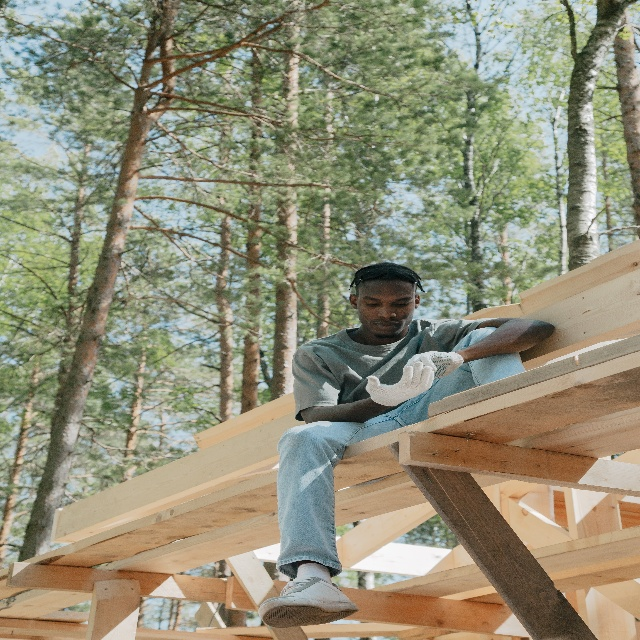Guantes: (365, 366, 434, 406), (401, 349, 463, 379)
